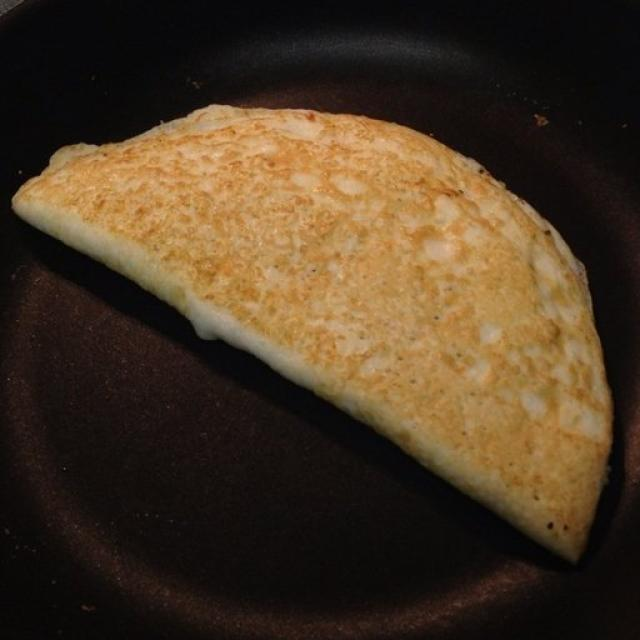telur_ayam_dadar: (99, 100, 616, 491)
